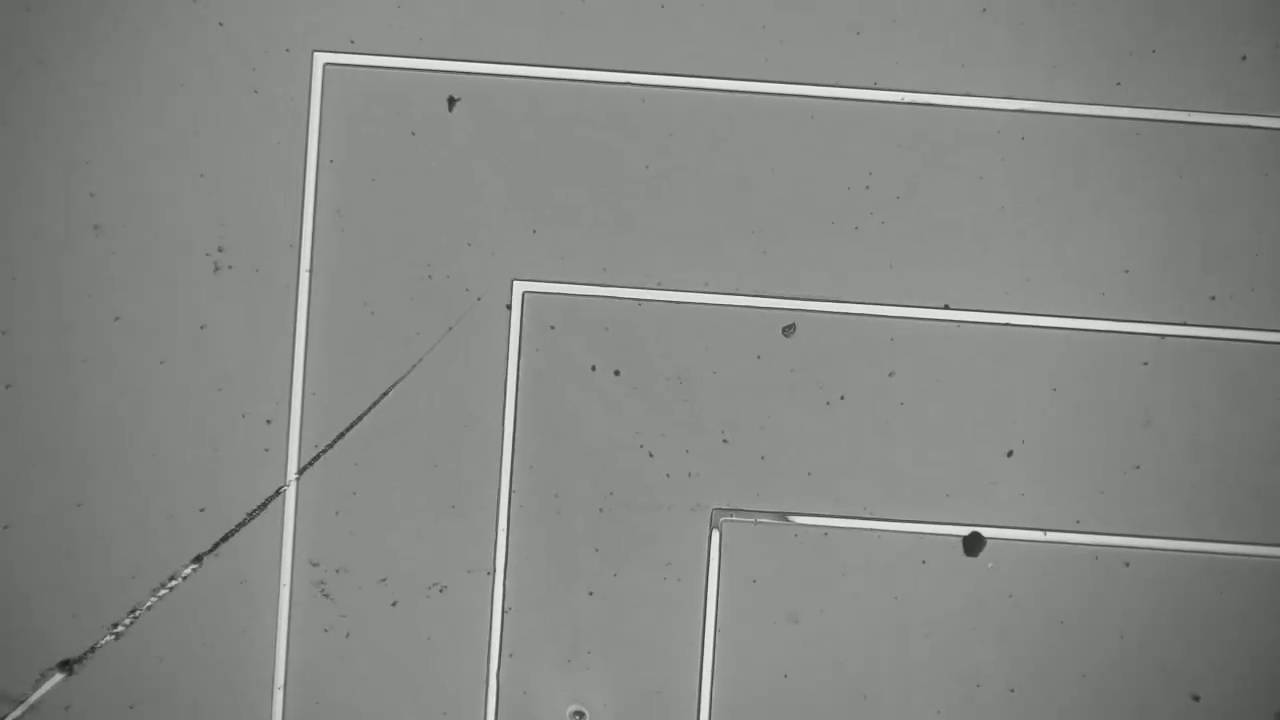gray_line: (693, 498, 810, 541), (699, 486, 735, 551)
scratch: (5, 313, 477, 719)
stains_enbedded: (948, 513, 1000, 569)
